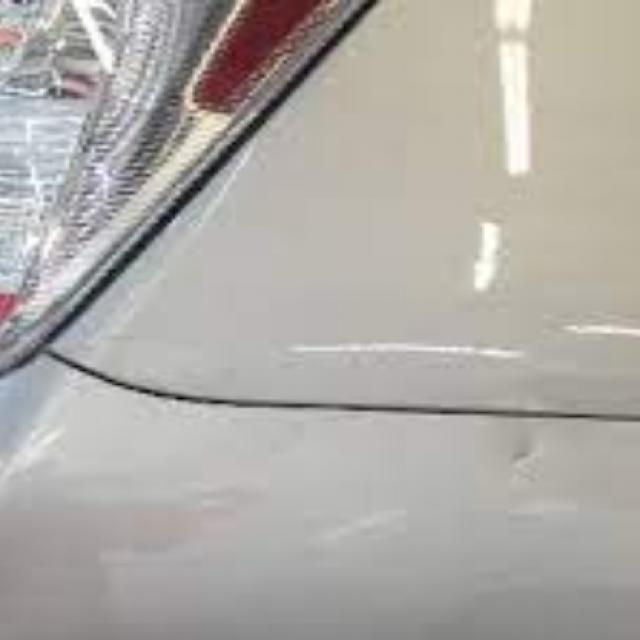dents: (484, 409, 575, 516)
